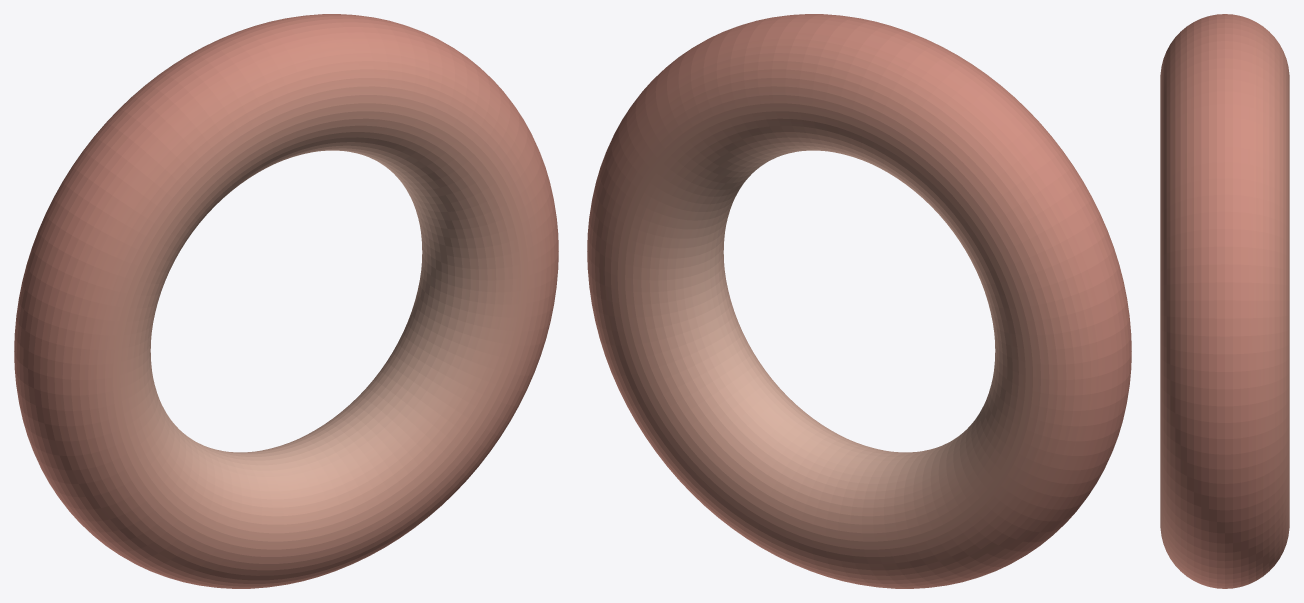
3 views of the same model, side by side, from view 1: azimuth 30°, elevation 25°; view 2: azimuth 150°, elevation 25°; view 3: azimuth 270°, elevation 25° (orthographic). The views are drawn at different scales.
Parts seen in each view (by area): view 1: world; view 2: world; view 3: world.
Boxes of the visible parts, box(x1,y1,x2,y2) form: world: box(14, 14, 558, 588); world: box(587, 14, 1131, 588); world: box(1160, 14, 1289, 588).
Bounding box in the file's own units: 17.2 × 17.2 × 3.86.
